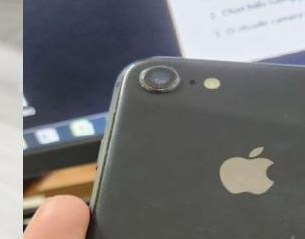scratch: (62, 102, 138, 220), (125, 53, 186, 99), (190, 221, 220, 239), (274, 109, 289, 119), (139, 201, 146, 213)
